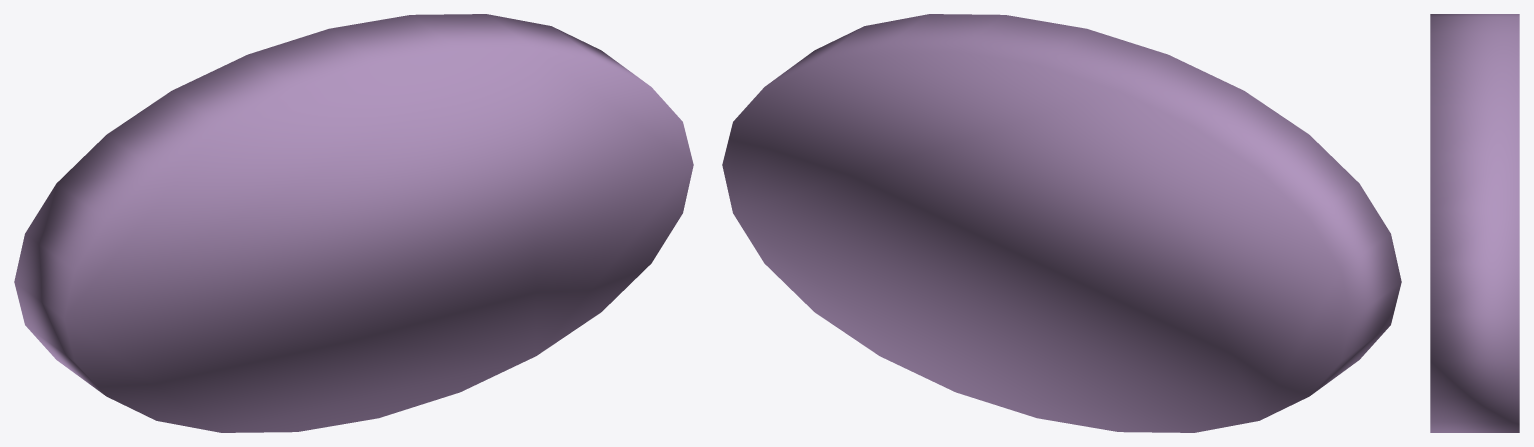
The model's file is shape-oval-purple.glb.
The picture shows the model from 3 angles, left to right: view 1: azimuth 30°, elevation 25°; view 2: azimuth 150°, elevation 25°; view 3: azimuth 270°, elevation 25°; orthographic projection. The views are drawn at different scales.
Parts seen in each view (by area): view 1: solid oval; view 2: solid oval; view 3: solid oval.
Boxes of the visible parts, x1,y1,x2,y2 form: solid oval: (14,14,693,432); solid oval: (722,14,1401,432); solid oval: (1430,14,1519,432).
Size of the model in its own units: 1.82 by 0.975 by 0.25.
